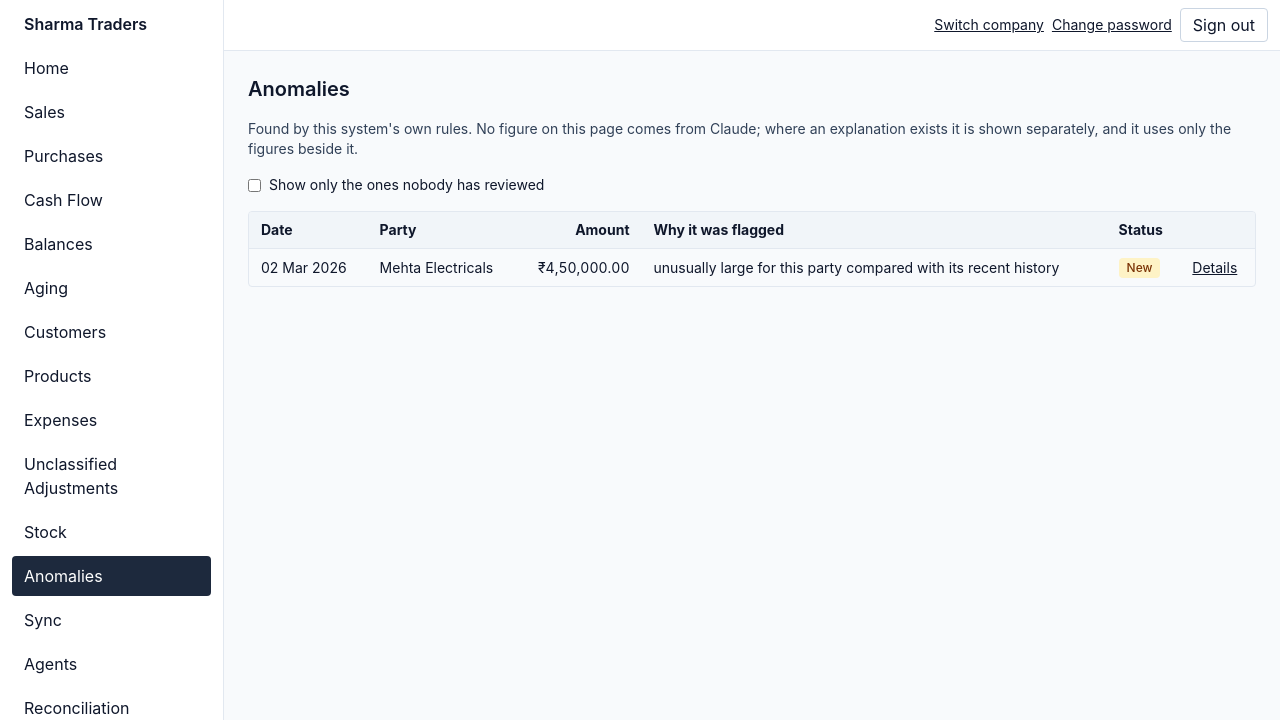
Test: the Anomalies section (SRS 12) › explains a discarded explanation plainly (FR-3.6)
Click the button "Details" at (1215, 268), box [1192, 258, 1237, 278]
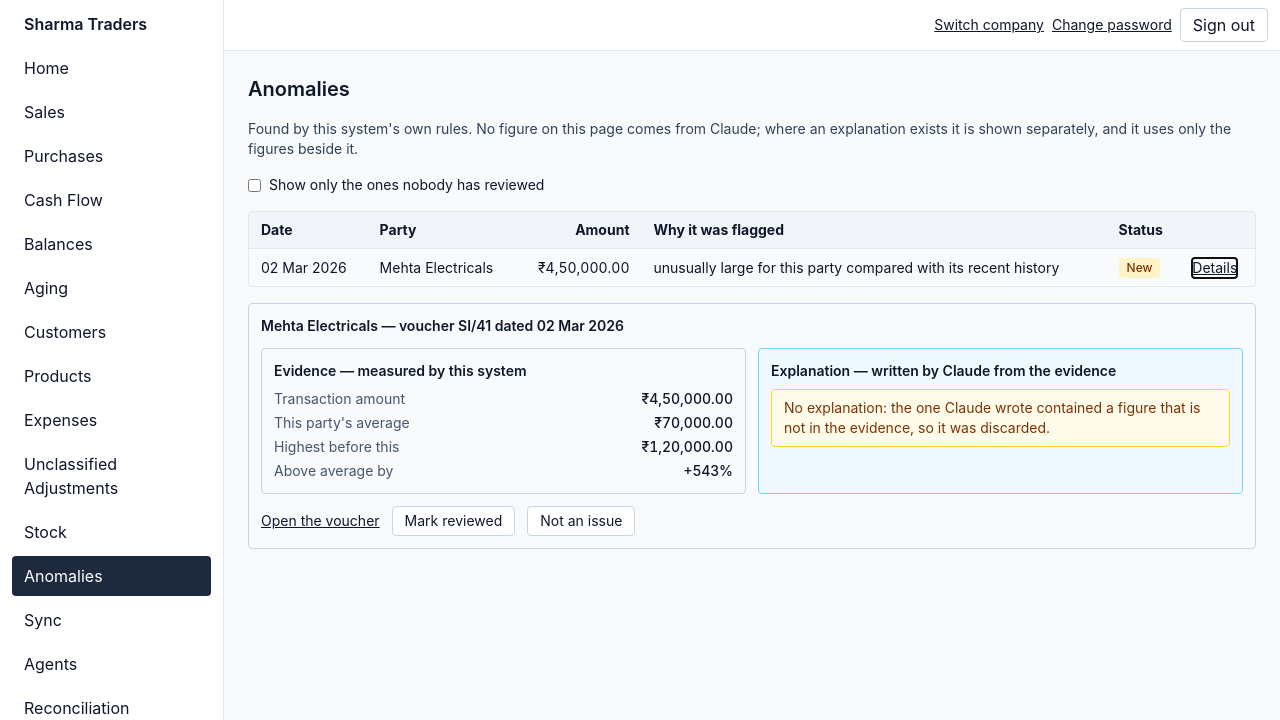
expect the element "Explanation" shows "figure that is not in the evidence": met, box [784, 399, 1200, 436]
